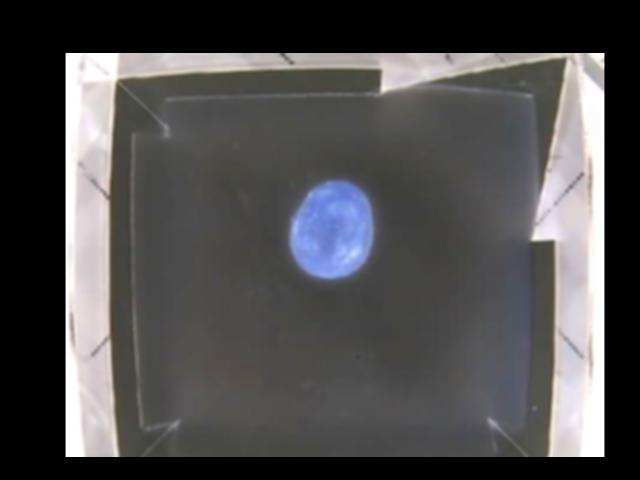Potato: (288, 179, 374, 281)
